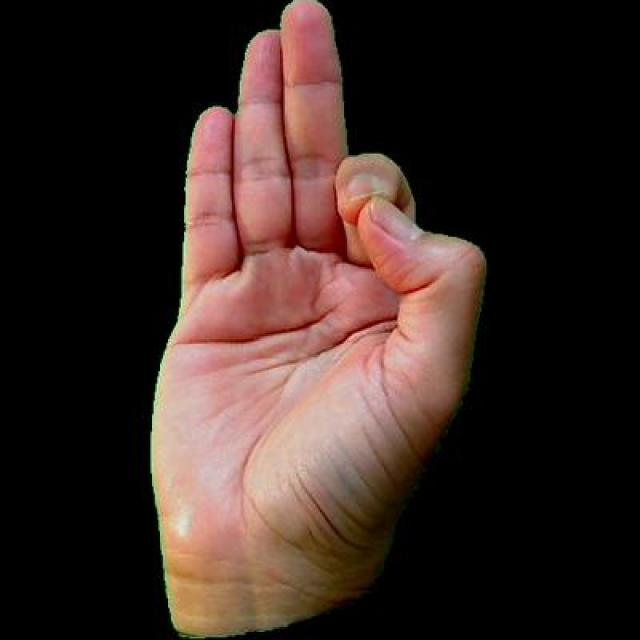f: (125, 0, 496, 637)
